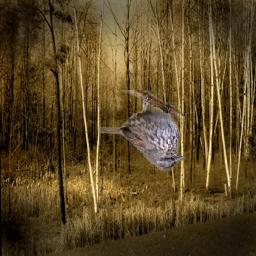Sparrow: (97, 90, 185, 172)
